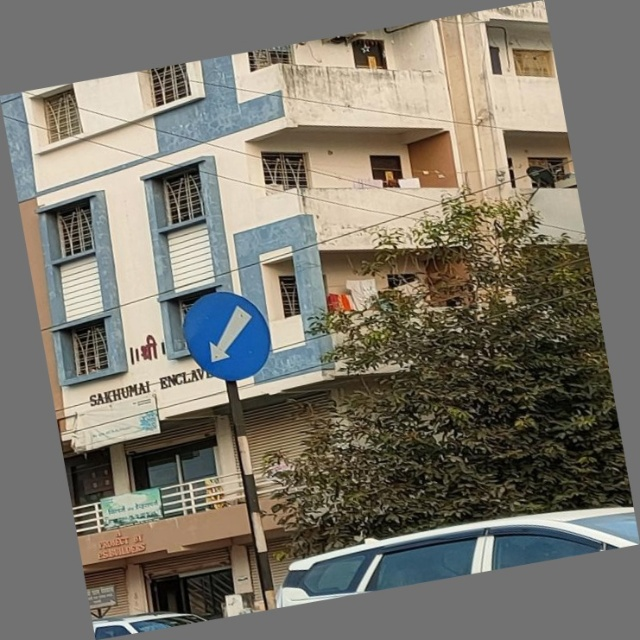R.301e: (170, 275, 286, 394)
